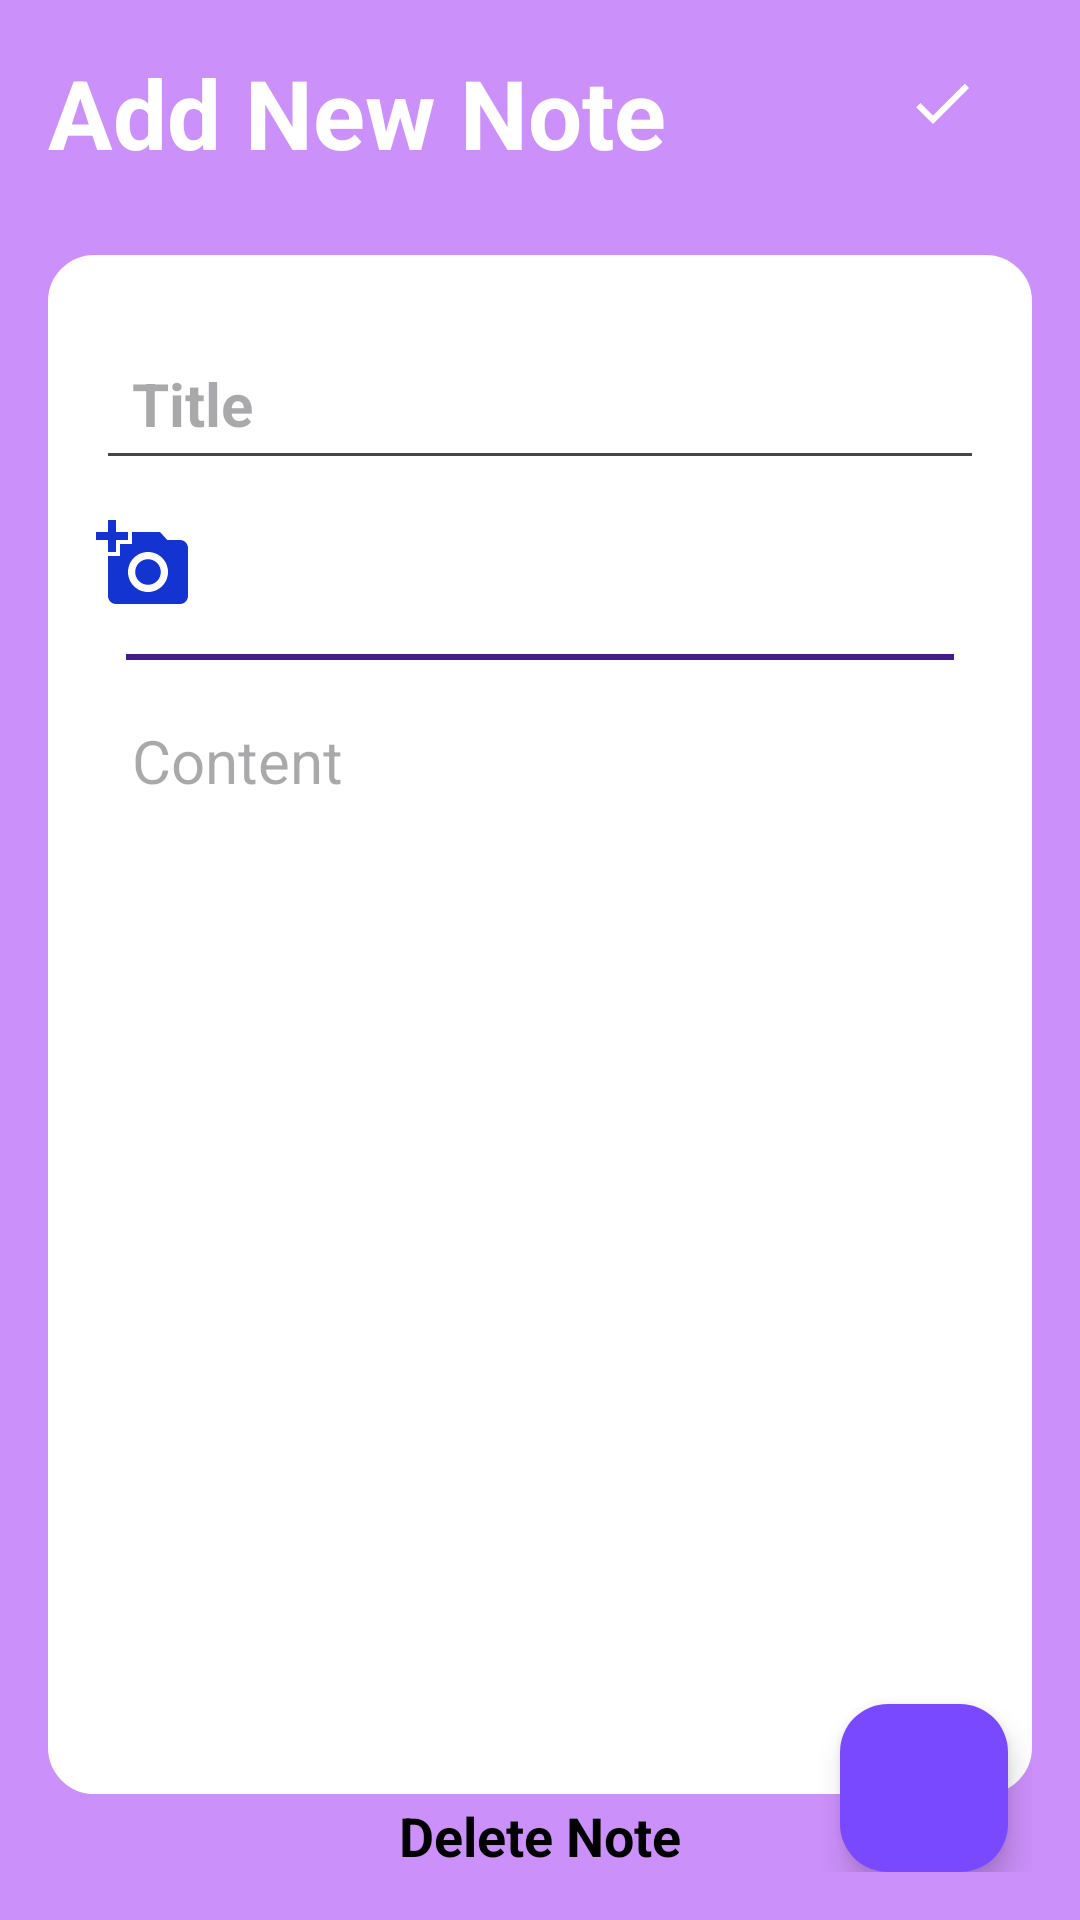

Icon bounding boxes for this 1080px×1920px phone screenshot, format (x1, y1, x2, y2):
add photo: (96, 520, 188, 604)
done: (916, 84, 969, 124)
